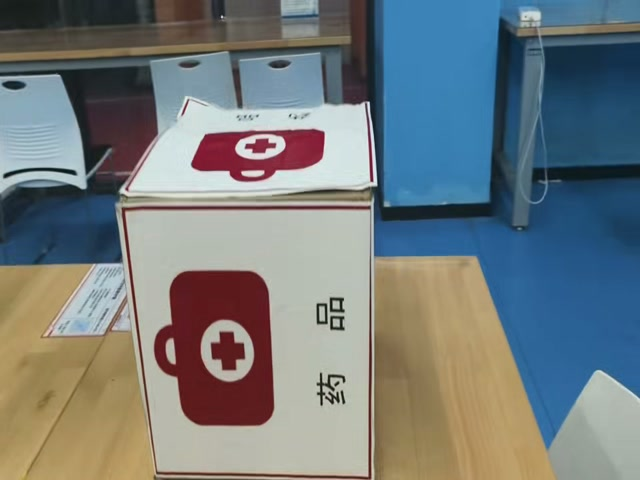Cube_medicine: (118, 94, 382, 209)
